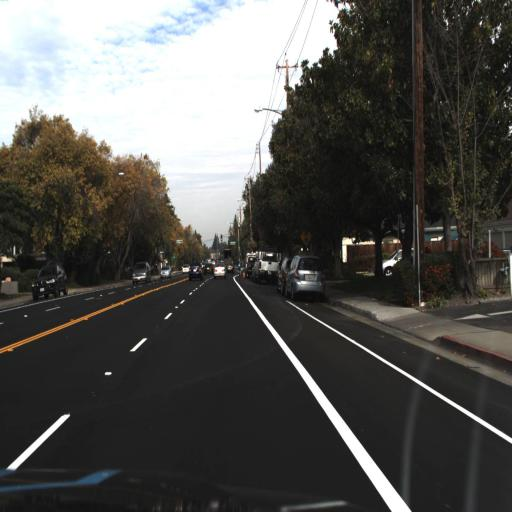car: (373, 239, 427, 281), (26, 258, 70, 299), (288, 253, 325, 300), (249, 247, 279, 282), (127, 260, 154, 286), (186, 259, 207, 284), (157, 264, 175, 282), (213, 259, 226, 279)
